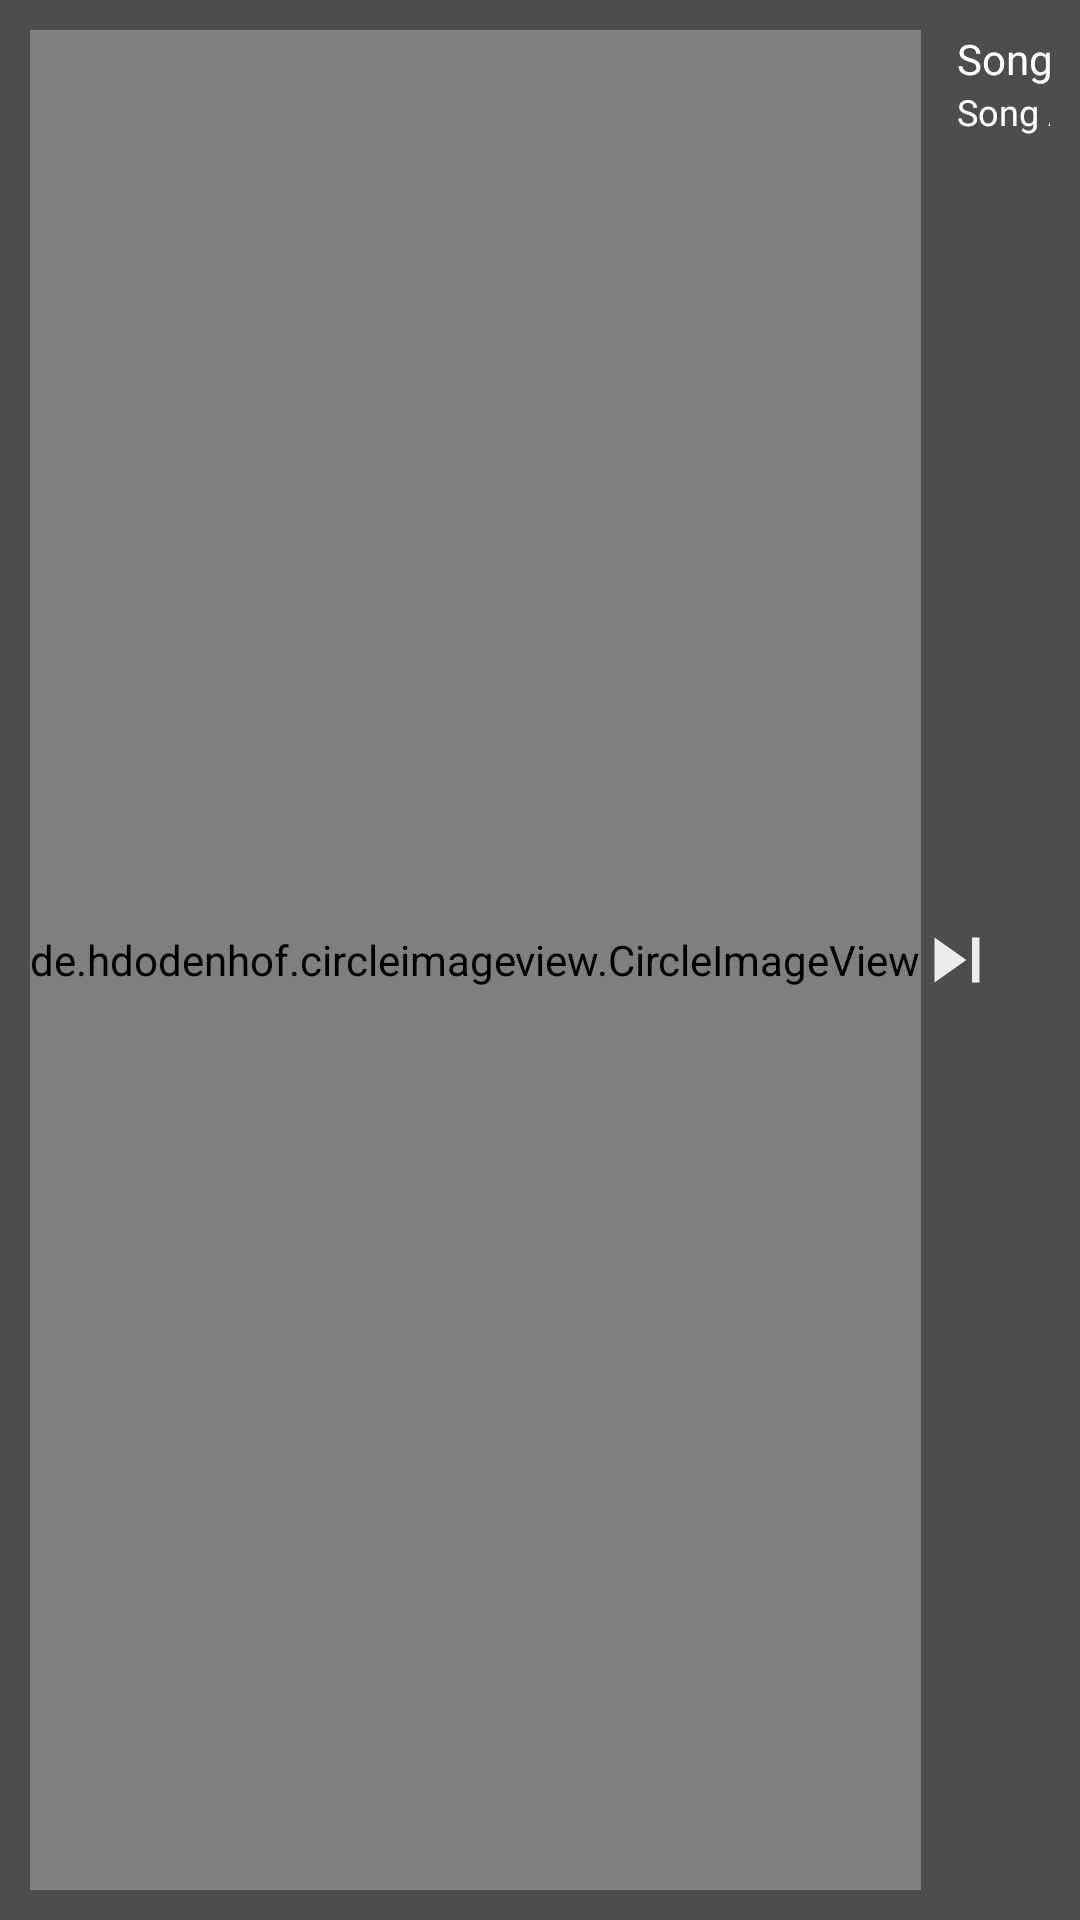

Named icons in this screenshot (1080 x 1920) and their bounding boxes, (x1, y1, x2, y2):
controller next: (934, 937, 980, 983)
